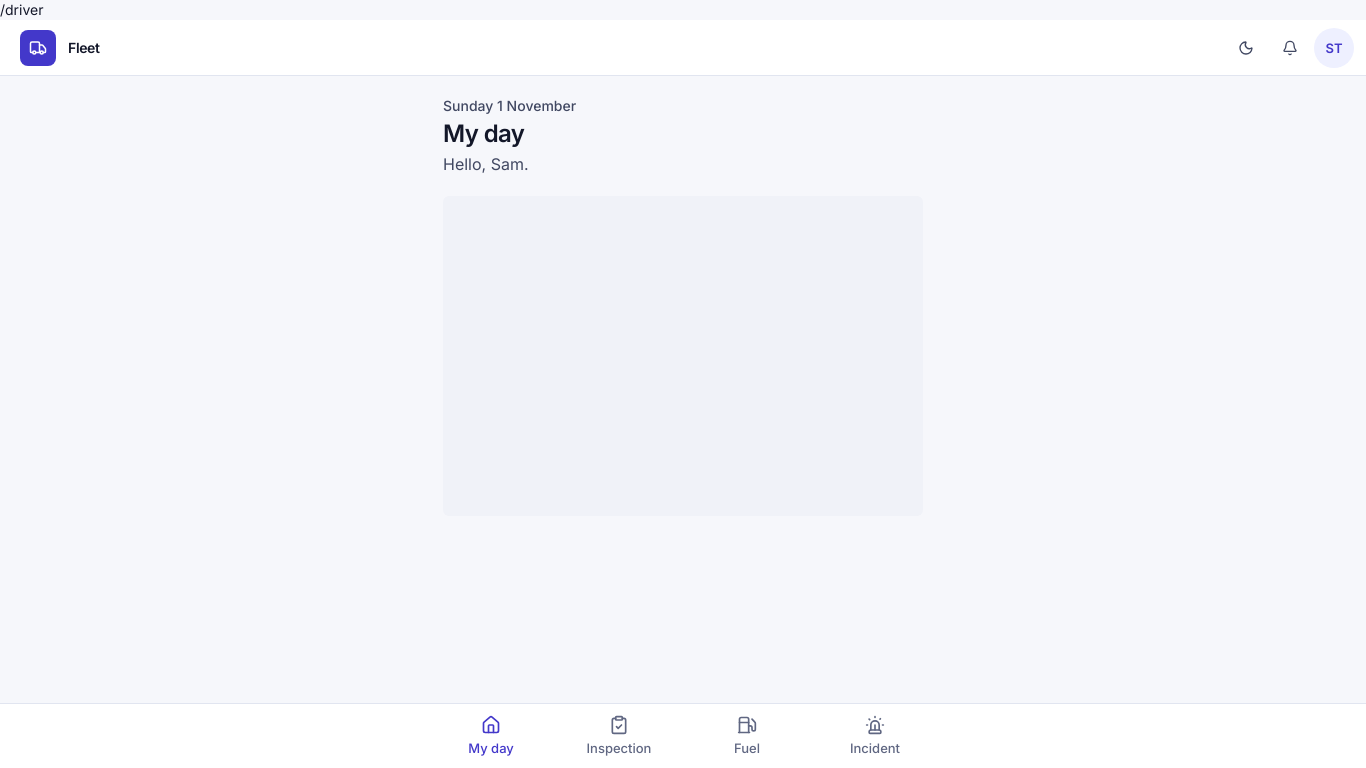
Test: portals › a driver lands on /driver in the mobile driver portal: no staff menu, tabs at the bottom, account sheet with sign out
Expected: the heading "My day" is shown, [443,119,524,148]
Expected: the links read "My day", "Inspection", "Fuel", "Incident", in this order, [468,715,514,756]; [586,715,651,756]; [734,715,760,756]; [850,715,900,756]
What coordinates should you click on to do the following:
click the button with aria-label "Account"
I would click on:
 (1334, 48)
Its box is [1314,28,1354,68].
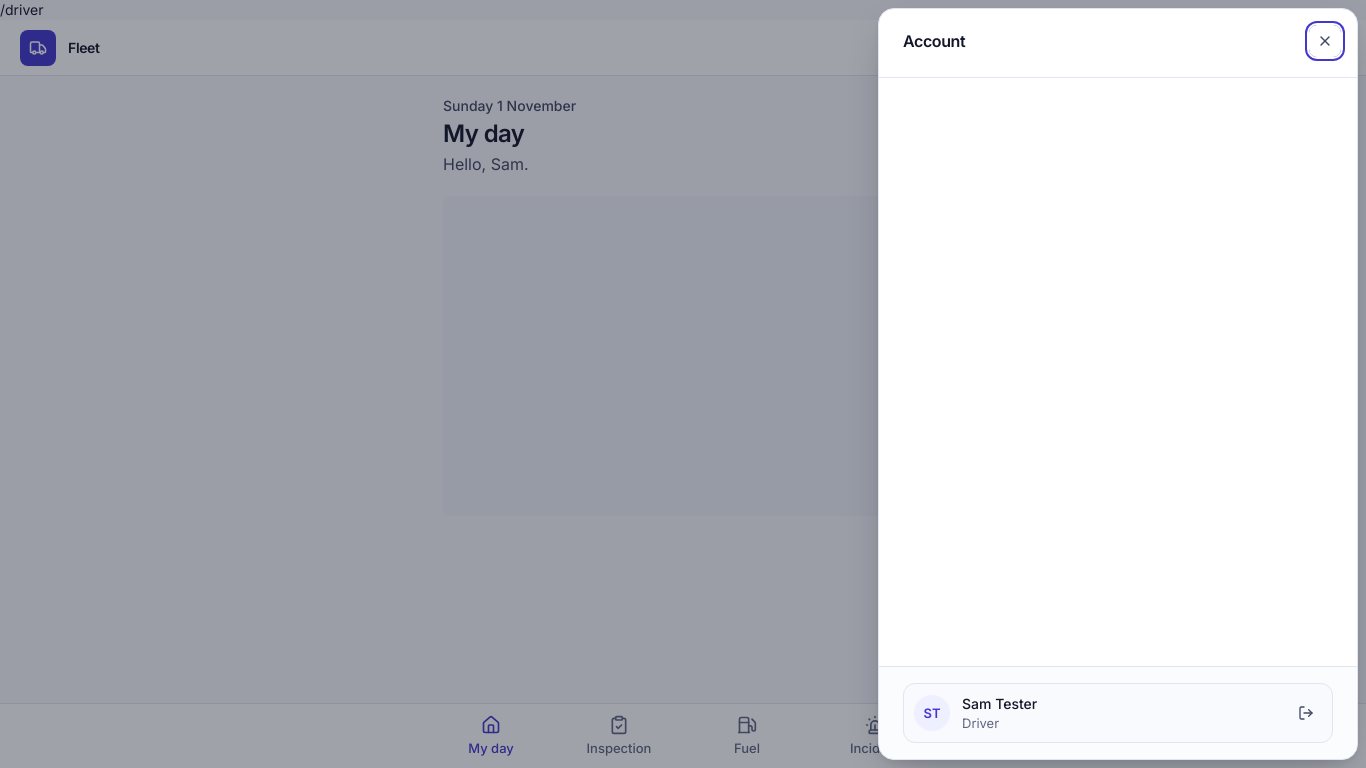
Result: the text "Sam Tester" is shown at [962,695,1037,712]
Result: the button named "Sign out" is shown at [1290,697,1322,729]
